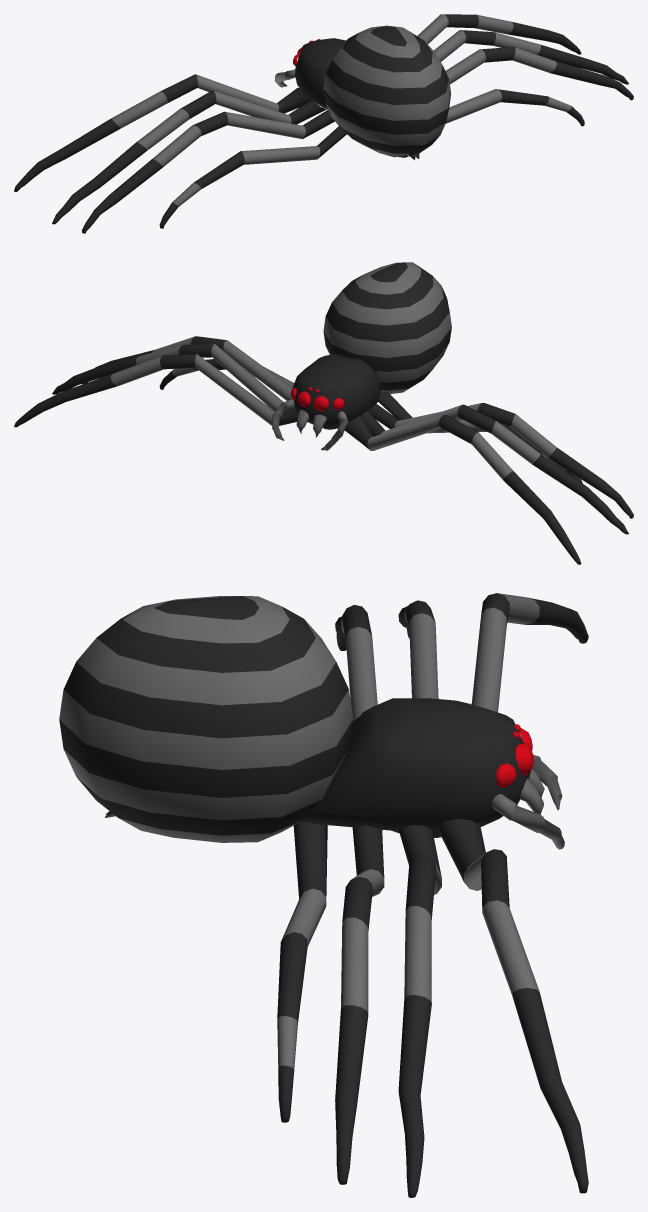
Rendered from spider.fbx.
3 renders of one model, top to bottom at view 1: azimuth 30°, elevation 25°; view 2: azimuth 150°, elevation 25°; view 3: azimuth 270°, elevation 25°, orthographic. The views are drawn at different scales.
Visible parts, largest first — view 1: Ara_a; view 2: Ara_a; view 3: Ara_a.
Part boxes in pixels (<box>): Ara_a: <box>14,14,633,233</box>; Ara_a: <box>14,262,633,564</box>; Ara_a: <box>59,593,588,1197</box>.
Size of the model in its own units: 9.43 by 2.45 by 3.75.
